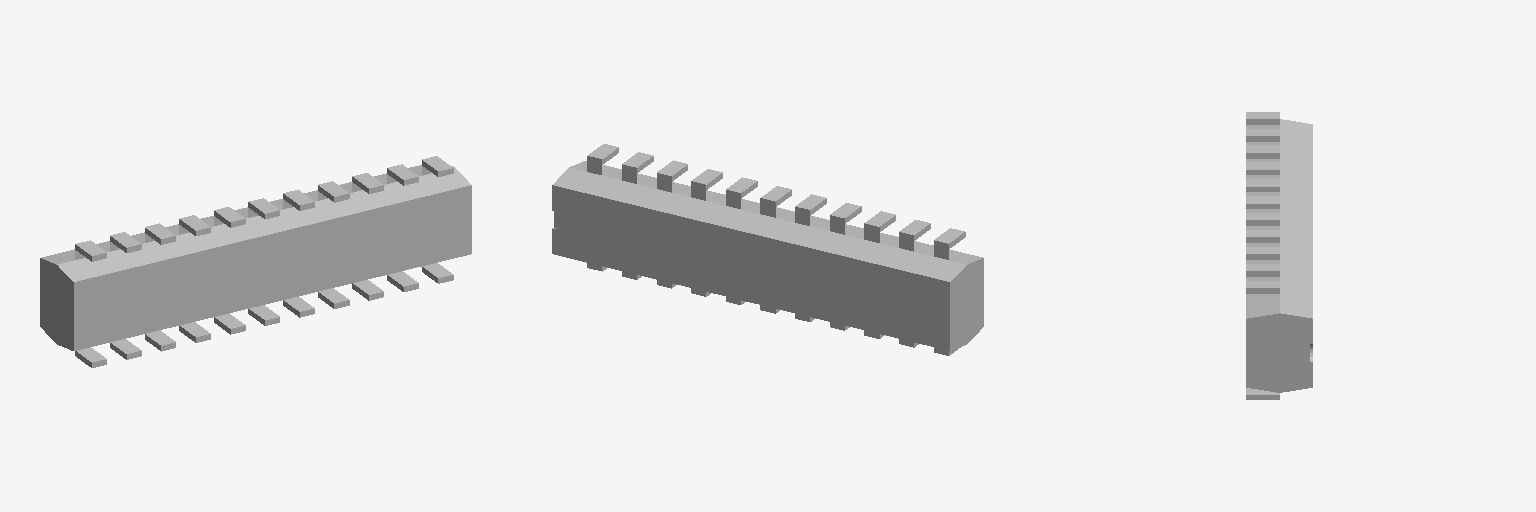
The model's file is Dil22-3.obj.
3 renders of one model, left to right at view 1: azimuth 30°, elevation 25°; view 2: azimuth 150°, elevation 25°; view 3: azimuth 270°, elevation 25°, orthographic.
Parts seen in each view (by area): view 1: ShapeIndexedFaceSet.045_ShapeIndexedFaceSet.046; view 2: ShapeIndexedFaceSet.045_ShapeIndexedFaceSet.046, ShapeIndexedFaceSet.046_ShapeIndexedFaceSet; view 3: ShapeIndexedFaceSet.045_ShapeIndexedFaceSet.046.
Part boxes in pixels (bbox=[...]): ShapeIndexedFaceSet.045_ShapeIndexedFaceSet.046: bbox=[40, 165, 471, 350]; ShapeIndexedFaceSet.045_ShapeIndexedFaceSet.046: bbox=[552, 161, 983, 350]; ShapeIndexedFaceSet.046_ShapeIndexedFaceSet: bbox=[568, 195, 706, 285]; ShapeIndexedFaceSet.045_ShapeIndexedFaceSet.046: bbox=[1246, 119, 1312, 392].
Bounding box in the file's own units: 29.21 × 7.87 × 4.26.